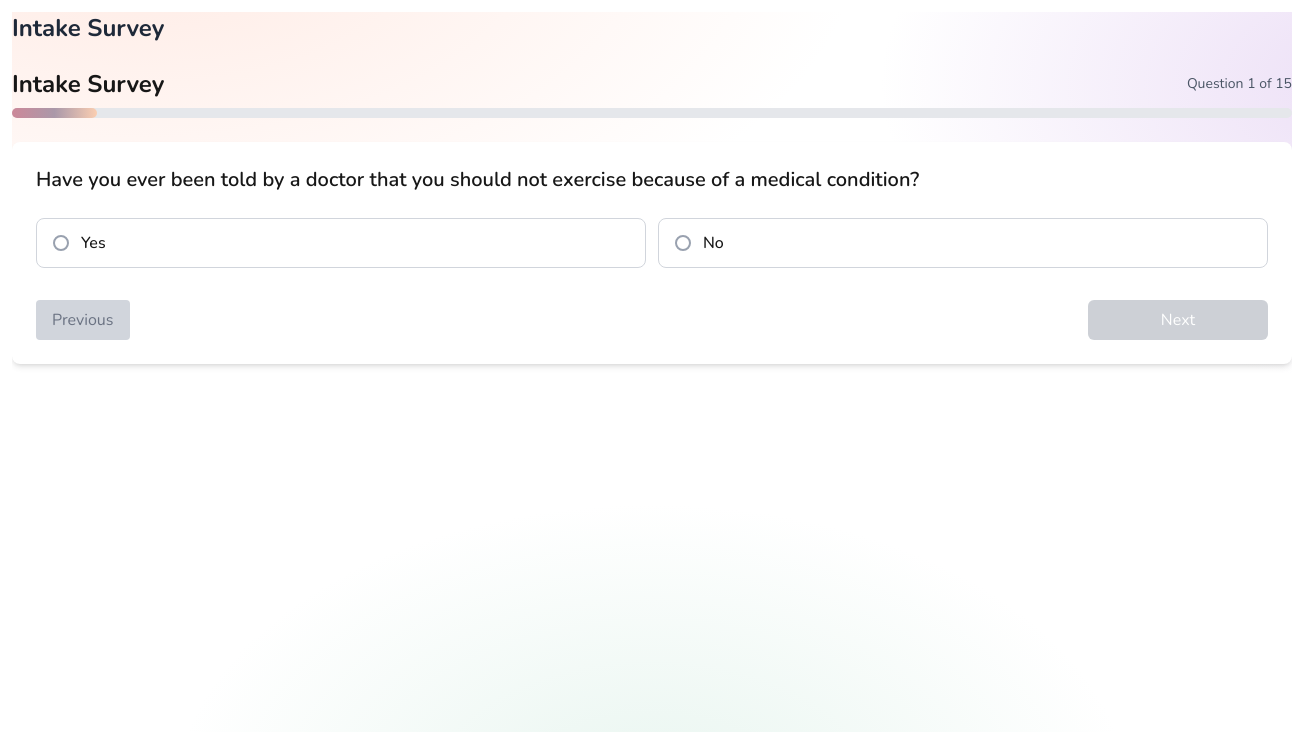
Test case: IntakeSurvey › enables Continue button when question is answered
Check: the button "Next" is disabled, box left=1088, top=300, right=1268, bottom=340
Click the radio button "No" at (683, 243), box left=658, top=218, right=1268, bottom=268
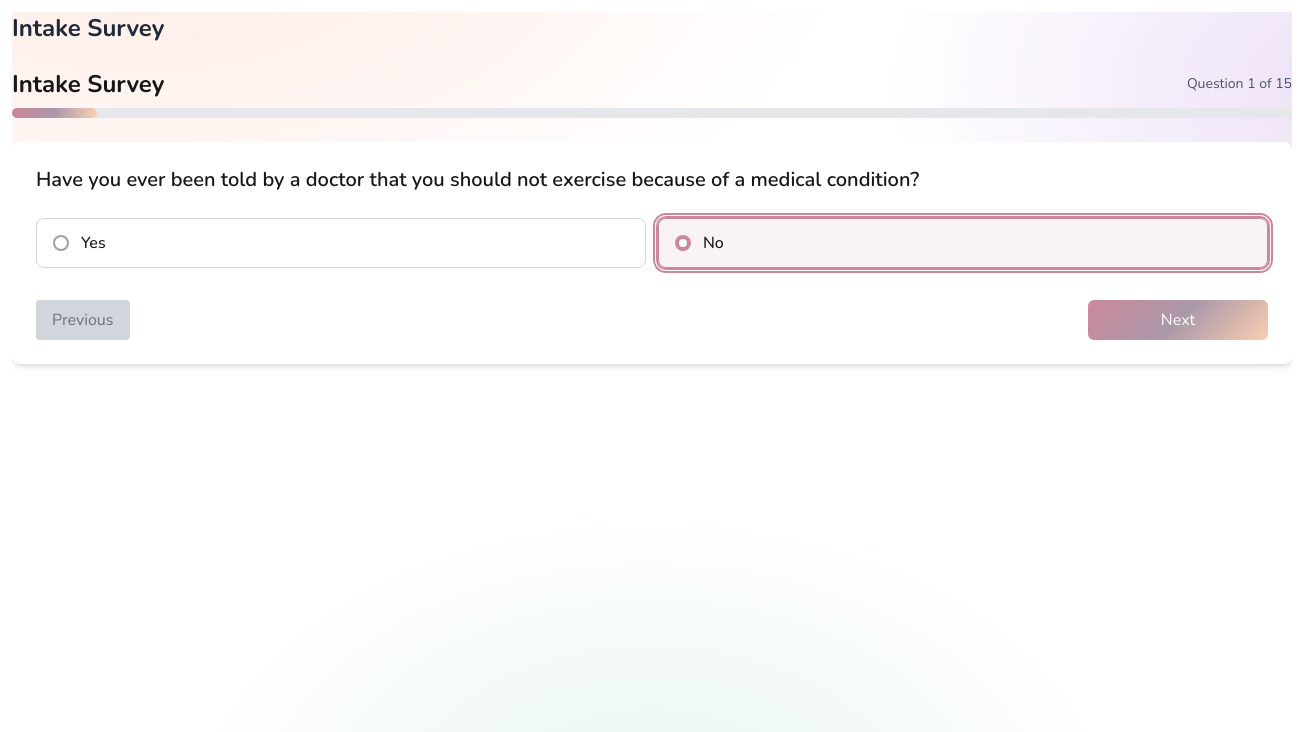
Check: the button "Next" is enabled, box left=1088, top=300, right=1268, bottom=340
